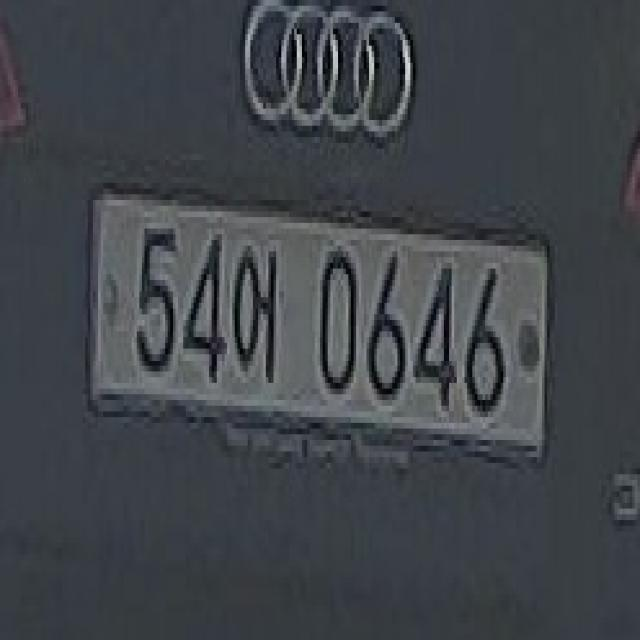0: (316, 234, 360, 398)
4: (411, 245, 461, 413), (180, 215, 228, 382)
5: (131, 216, 178, 372)
6: (361, 233, 408, 400), (464, 248, 509, 420)
eo: (231, 216, 280, 389)
license_plate: (81, 165, 560, 492)
